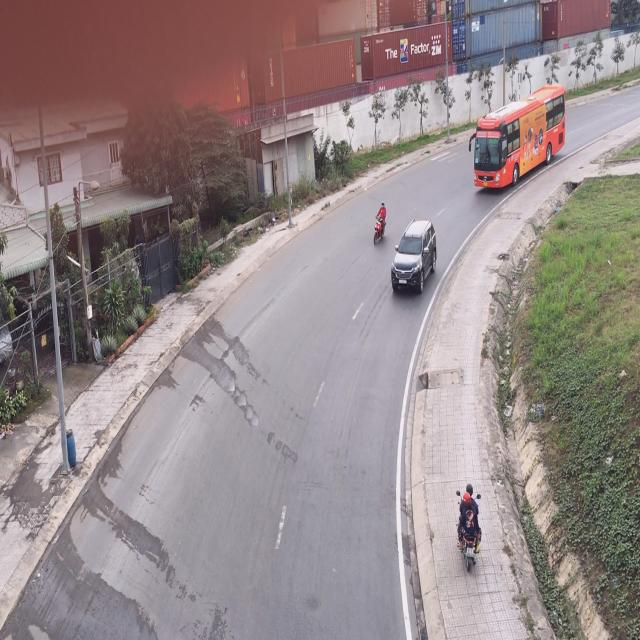bus: (472, 90, 566, 196)
car: (392, 223, 438, 299)
motorbike: (455, 480, 485, 574), (372, 200, 390, 248)
